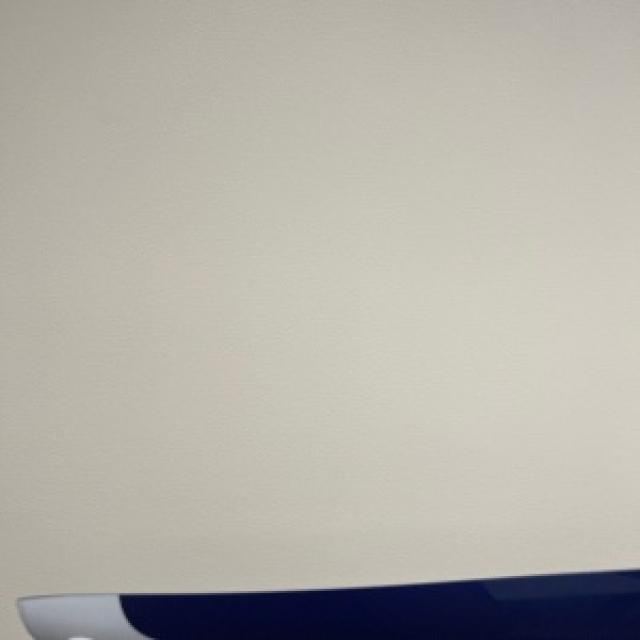healthy: (17, 567, 638, 638)
